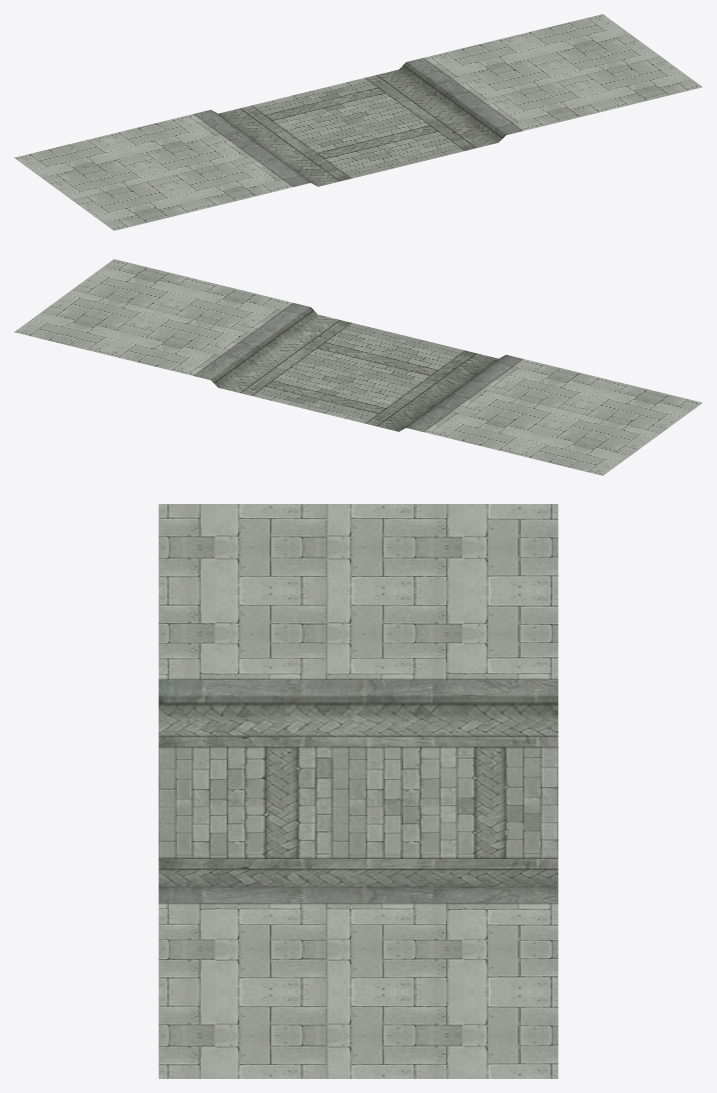
The model's file is FB_ChengZhenJieDao_Dibiao.FBX.
The picture shows the model from 3 angles, top to bottom: view 1: azimuth 30°, elevation 25°; view 2: azimuth 150°, elevation 25°; view 3: azimuth 270°, elevation 25°; orthographic projection. The views are drawn at different scales.
Visible parts, largest first — view 1: Object01; view 2: Object01; view 3: Object01.
Part boxes in pixels (bbox=[...]): Object01: bbox=[14, 14, 702, 230]; Object01: bbox=[14, 259, 702, 475]; Object01: bbox=[158, 504, 558, 1078].
Size of the model in its own units: 34.01 by 0.3161 by 10.
